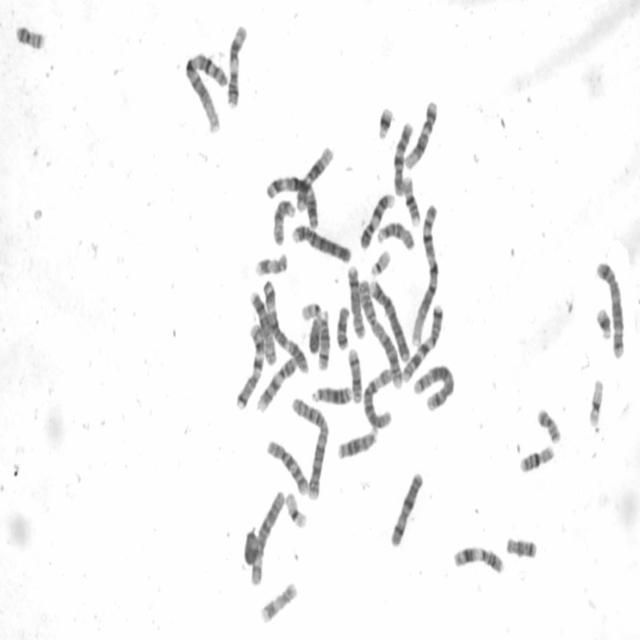A1: (408, 199, 441, 348), (182, 48, 228, 135)
A2: (358, 277, 403, 391), (288, 393, 329, 501)
A3: (260, 278, 310, 375), (264, 172, 320, 230)
B4: (367, 276, 411, 364), (290, 220, 352, 265)
B5: (594, 257, 626, 360), (411, 361, 456, 412)
C10: (265, 436, 310, 497), (391, 119, 414, 198)
C11: (224, 22, 249, 109), (450, 541, 506, 576)
C12: (293, 142, 334, 212), (403, 98, 439, 170)
C6: (248, 486, 286, 587), (361, 365, 395, 430)
C7: (399, 301, 444, 383), (233, 319, 266, 412)
C8: (247, 286, 278, 367), (345, 262, 366, 341)
C9: (254, 354, 298, 414), (357, 190, 397, 250)
D13: (334, 423, 380, 462), (310, 381, 354, 406)
D14: (315, 306, 332, 372), (346, 346, 363, 404)
D15: (375, 217, 417, 252), (271, 197, 296, 246)
E16: (517, 442, 556, 474), (400, 173, 422, 228)
E17: (258, 579, 298, 625), (253, 250, 289, 278)
E18: (504, 533, 538, 561), (334, 303, 351, 352)
F19: (284, 489, 308, 530), (587, 375, 605, 428)
F20: (535, 404, 562, 445), (14, 22, 46, 51)
G21: (594, 304, 614, 342), (375, 103, 395, 141)
G22: (368, 246, 392, 278), (300, 298, 322, 323)
X: (387, 469, 424, 548)
Y: (306, 312, 323, 354)
